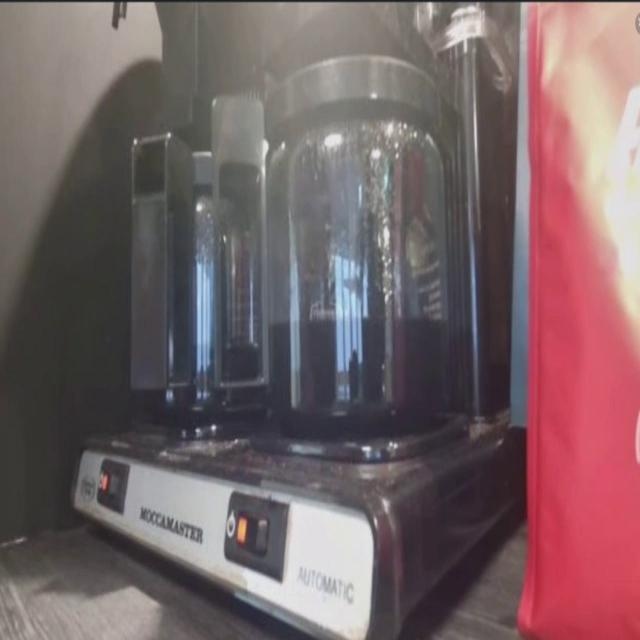coffee: (263, 141, 446, 429), (140, 192, 254, 424)
